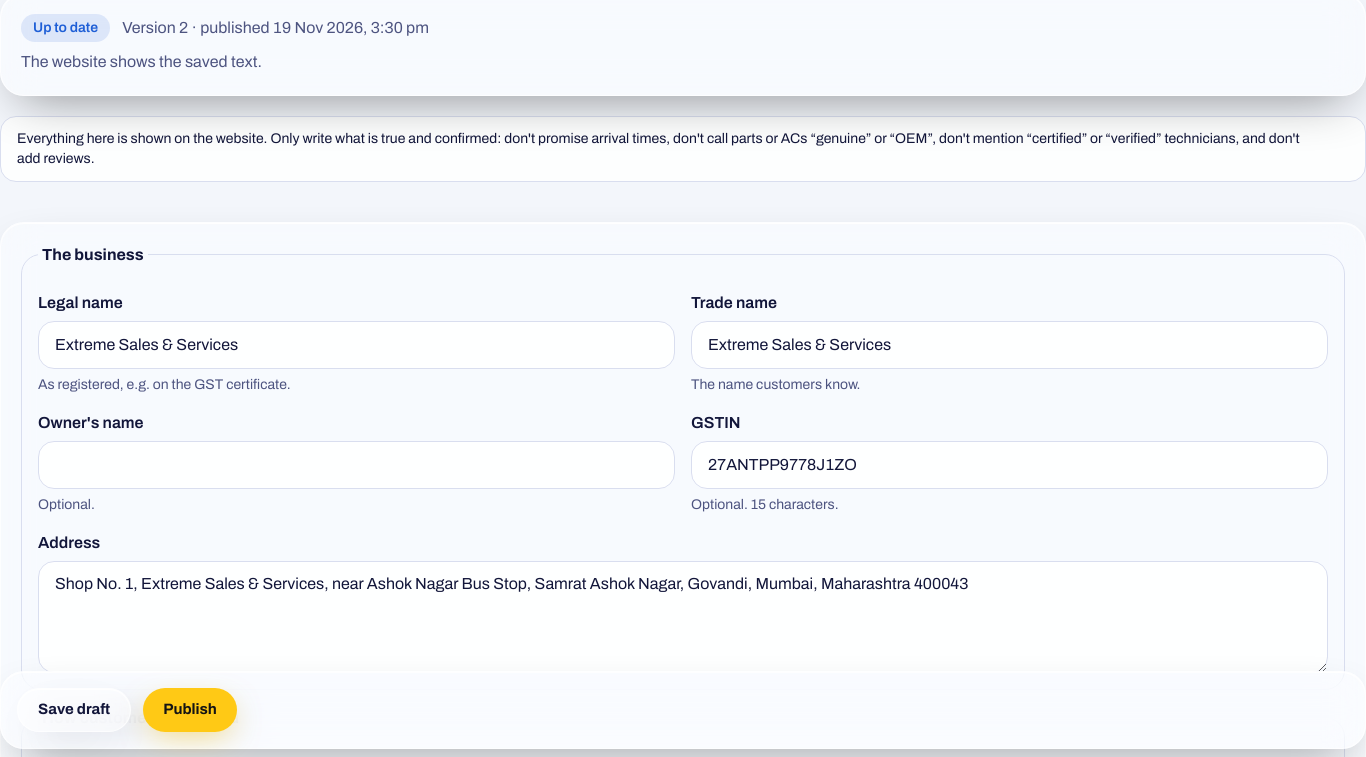
Test: ContentEditor: saving and publishing › shows PYS's field messages next to the fields
Click the button "Save draft": (74, 710) [17,688,131,732]
(page scrolled)
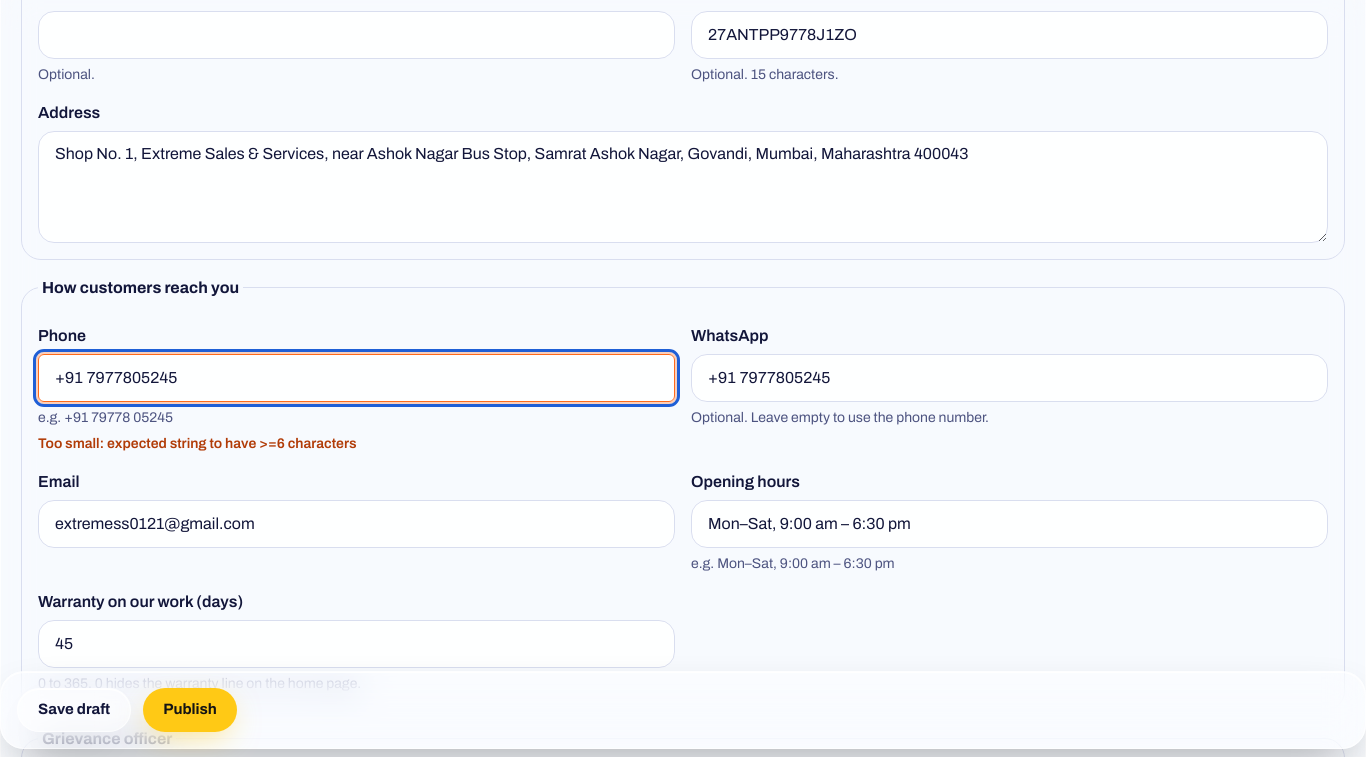
Check: the text "Too small: expected string to have >=6 characters" is shown, box [38,436,357,451]
